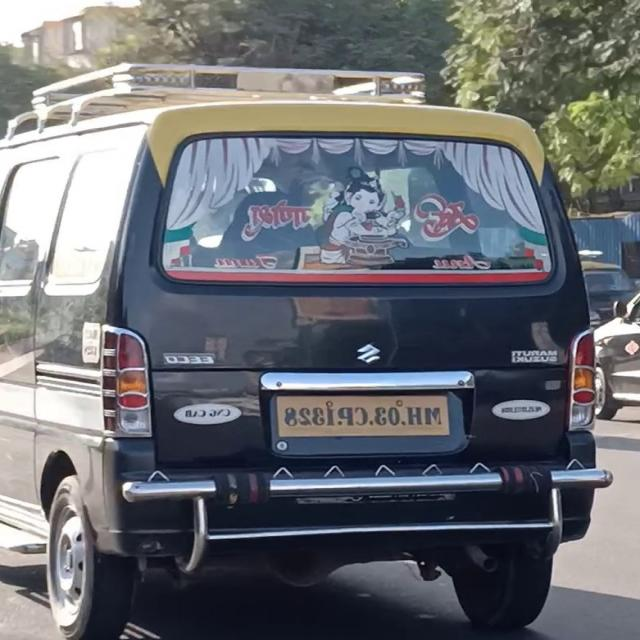license_plate: (272, 390, 456, 441)
